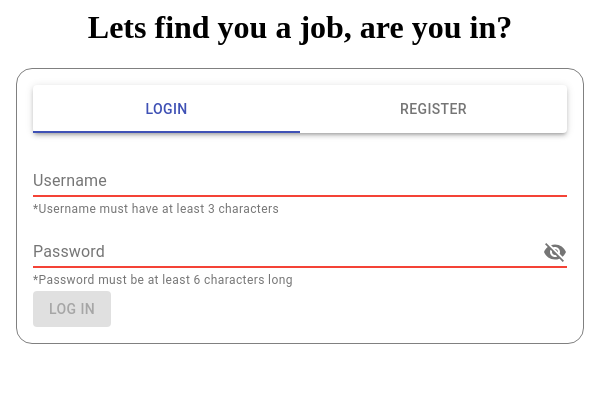
Scenario: tests for landing page › should display success message on login
Step 1. Type "razvan" into the field labelled "Username" → (300, 181), box [33,165,567,197]
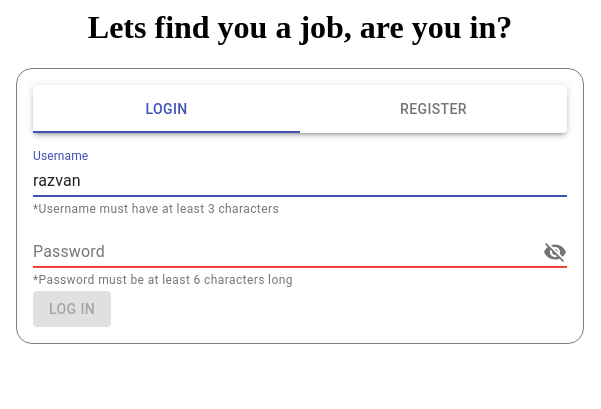
Step 2. Type "parola123" into the password field labelled "Password" → (278, 252), box [33,236,523,268]
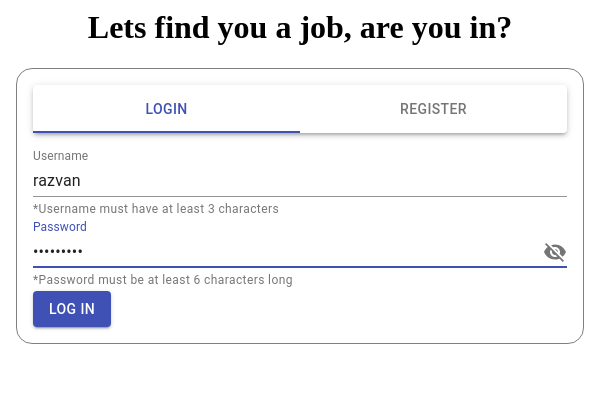
Step 3. Click the button "Log in" → (72, 309), box [33,291,111,327]
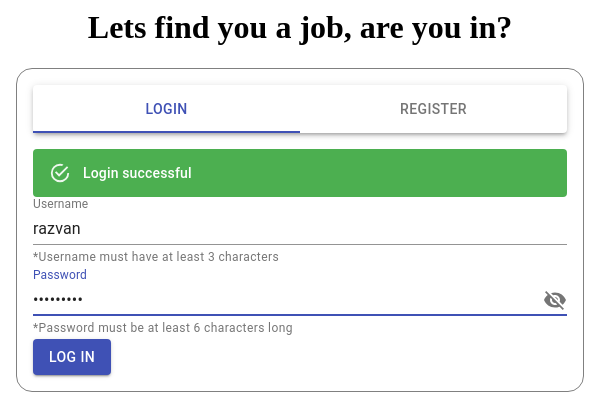
Expected: the text "Login successful" is shown, [83,165,192,181]
